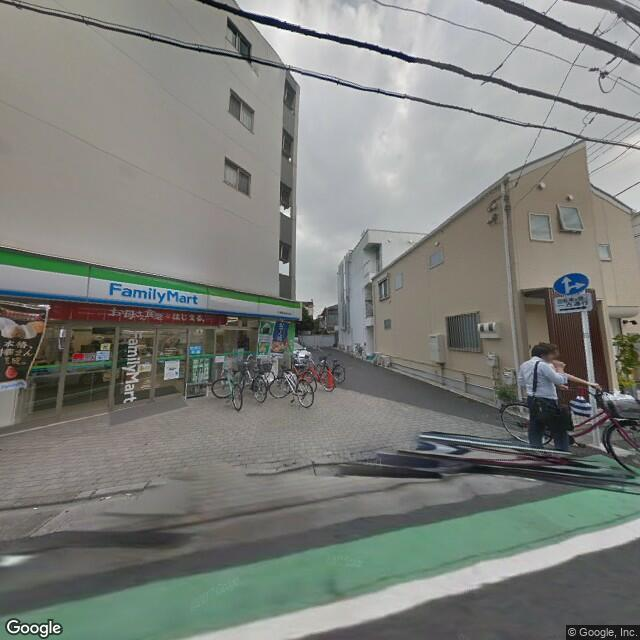family_mart: (2, 245, 302, 324), (105, 276, 202, 308), (121, 328, 140, 407)
